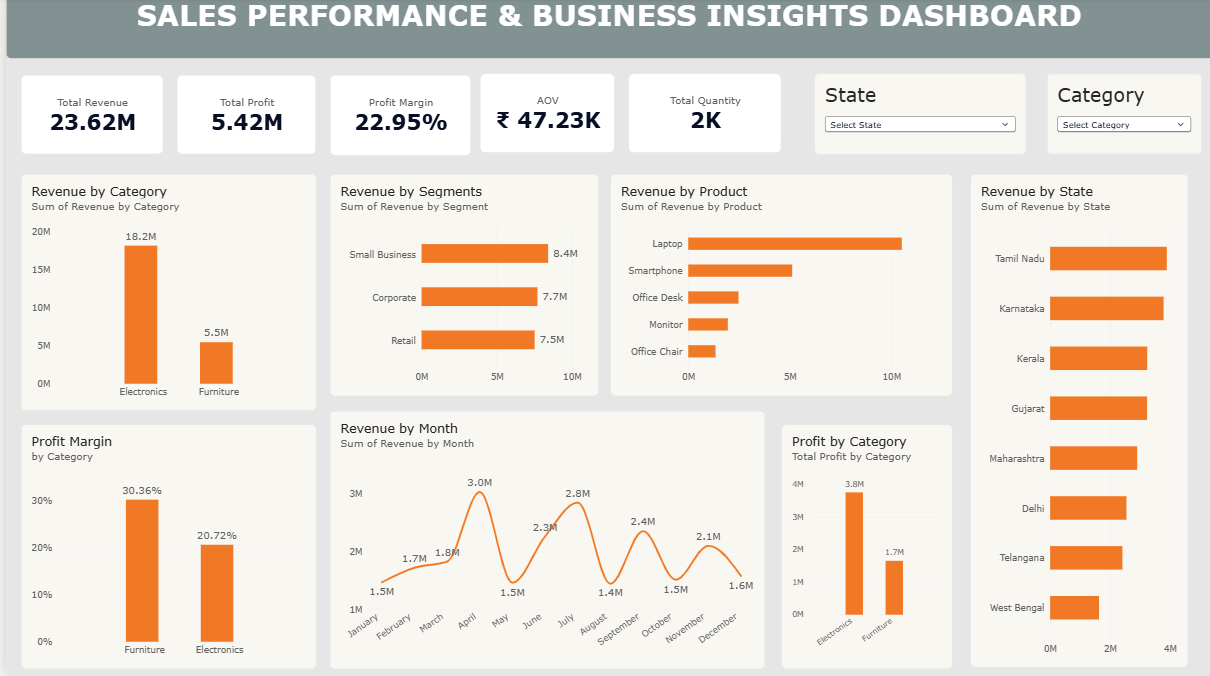

The page's visual inventory and layout, read from the dashboard file:
{"tool":"powerbi","page":{"name":"Page 1","canvas":[1920,1080],"ordinal":0},"visuals":[{"type":"cardVisual","fields":{"Data":["customers.Total Revenue"]},"box":[23.9,124.1,226.7,126.5],"z":0},{"type":"cardVisual","fields":{"Data":["customers.Total Profit"]},"box":[272,124.1,221.9,126.5],"z":1000},{"type":"cardVisual","fields":{"Data":["customers.Profit Margin"]},"box":[515.4,124.1,224.3,128.8],"z":2000},{"type":"cardVisual","fields":{"Data":["customers.Total Quantity"]},"box":[990.2,121.7,243.4,126.5],"z":3000},{"type":"cardVisual","fields":{"Data":["customers.AOV"]},"box":[753.9,121.7,214.7,126.5],"z":4000},{"type":"columnChart","title":"Revenue by Category","fields":{"Category":["product.Category"],"Y":["Sum(sales.Revenue)"]},"box":[23.9,281.5,470,377],"z":5000},{"type":"columnChart","title":"Profit by Category","fields":{"Category":["product.Category"],"Y":["customers.Total Profit"]},"box":[1233.5,680,272,388.9],"z":6000},{"type":"columnChart","fields":{"Category":["product.Category"],"Y":["customers.Profit Margin"]},"box":[23.9,680,470,388.9],"z":7000},{"type":"barChart","title":" Revenue by State","fields":{"Category":["customers.State"],"Y":["Sum(sales.Revenue)"]},"box":[1534.1,281.5,346,785],"z":8000},{"type":"clusteredBarChart","title":"Revenue by Segments","fields":{"Category":["customers.Segment"],"Y":["Sum(sales.Revenue)"]},"box":[515.4,281.5,427.1,353.1],"z":9000},{"type":"lineChart","title":" Revenue by Month","fields":{"Category":["sales.OrderDate.Variation.Date Hierarchy.Month"],"Y":["Sum(sales.Revenue)"]},"box":[515.4,658.5,691.9,410.4],"z":10000},{"type":"clusteredBarChart","title":"Revenue by Product","fields":{"Category":["product.Product"],"Y":["Sum(sales.Revenue)"]},"box":[961.5,281.5,544,353.1],"z":11000},{"type":"listSlicer","fields":{"Values":["customers.State"]},"box":[1286,121.7,336.4,128.8],"z":12000},{"type":"listSlicer","fields":{"Values":["product.Category"]},"box":[1655.8,121.7,245.7,128.8],"z":13000},{"type":"textbox","box":[0,0,1920.7,97.8],"z":14000},{"type":"actionButton","box":[0,0,200,50],"z":15000}]}

Visuals, with their boxes in screenshot pixels (x1, y1, x2, y2), scaled from the page's 1920x1080 canvas onto the 1210x676 screenshot:
cardVisual - customers.Total Revenue: [left=15, top=78, right=158, bottom=157]
cardVisual - customers.Total Profit: [left=171, top=78, right=311, bottom=157]
cardVisual - customers.Profit Margin: [left=325, top=78, right=466, bottom=158]
cardVisual - customers.Total Quantity: [left=624, top=76, right=777, bottom=155]
cardVisual - customers.AOV: [left=475, top=76, right=610, bottom=155]
"Revenue by Category" columnChart: [left=15, top=176, right=311, bottom=412]
"Profit by Category" columnChart: [left=777, top=426, right=949, bottom=669]
columnChart - product.Category x customers.Profit Margin: [left=15, top=426, right=311, bottom=669]
" Revenue by State" barChart: [left=967, top=176, right=1185, bottom=668]
"Revenue by Segments" clusteredBarChart: [left=325, top=176, right=594, bottom=397]
" Revenue by Month" lineChart: [left=325, top=412, right=761, bottom=669]
"Revenue by Product" clusteredBarChart: [left=606, top=176, right=949, bottom=397]
listSlicer - customers.State: [left=810, top=76, right=1022, bottom=157]
listSlicer - product.Category: [left=1043, top=76, right=1198, bottom=157]
textbox: [left=0, top=0, right=1209, bottom=61]
actionButton: [left=0, top=0, right=126, bottom=31]
